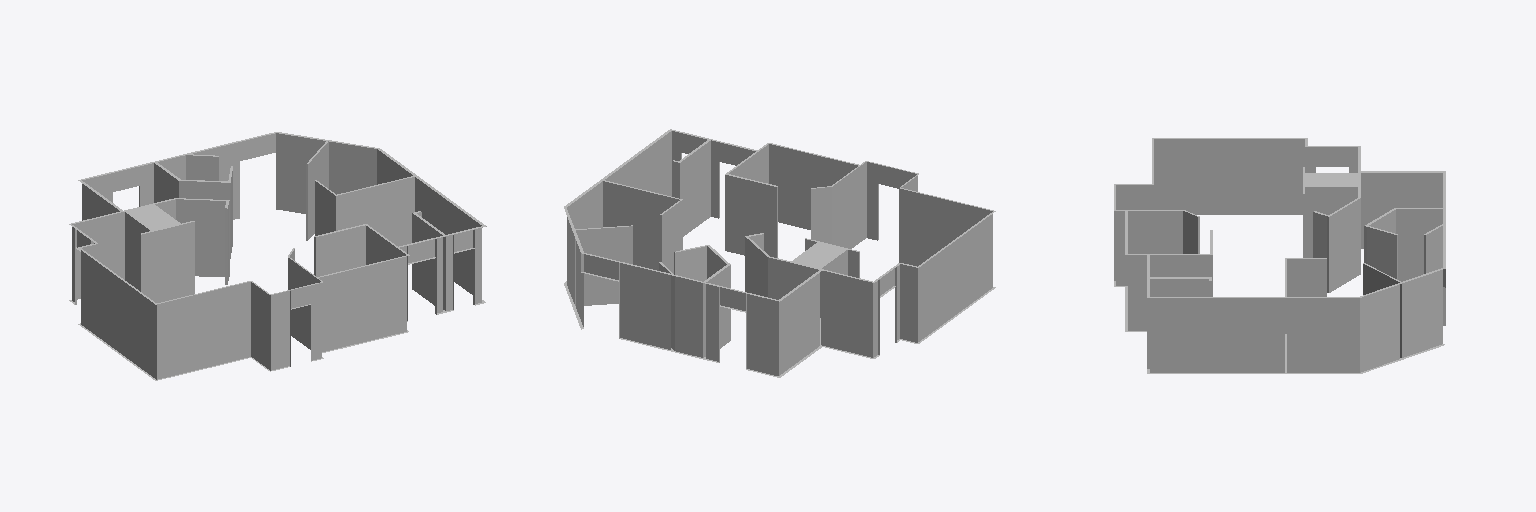
The model's file is inside_walls.obj.
The picture shows the model from 3 angles: view 1: azimuth 30°, elevation 25°; view 2: azimuth 150°, elevation 25°; view 3: azimuth 270°, elevation 25°; orthographic projection.
Visible parts, largest first — view 1: Cube; view 2: Cube; view 3: Cube.
Boxes of the visible parts, box(x1,y1,x2,y2) form: Cube: box(69, 132, 486, 380); Cube: box(564, 129, 995, 377); Cube: box(1114, 138, 1445, 373).
Size of the model in its own units: 28.71 by 6.38 by 25.14.